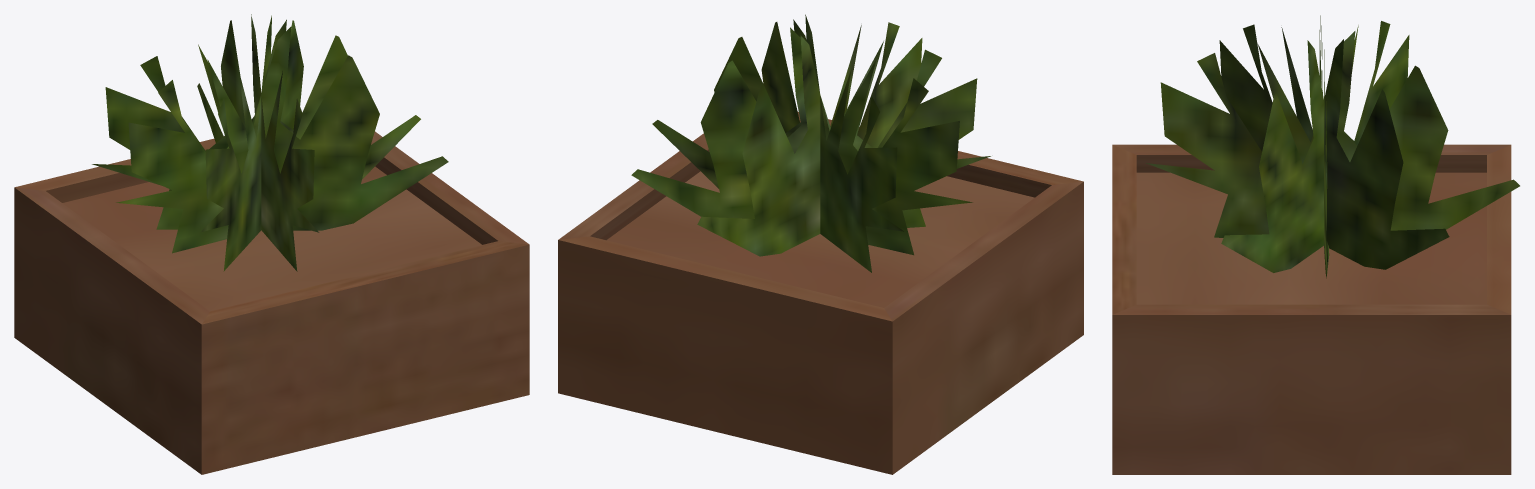
The model's file is plant3_2.dae.
3 views of the same model, side by side, from view 1: azimuth 30°, elevation 25°; view 2: azimuth 150°, elevation 25°; view 3: azimuth 270°, elevation 25° (orthographic). The views are drawn at different scales.
Parts seen in each view (by area): view 1: node; view 2: node; view 3: node.
Part boxes in pixels (<box>): node: <box>14,14,529,474</box>; node: <box>558,14,1083,474</box>; node: <box>1112,15,1519,474</box>.
Bounding box in the file's own units: 0.1988 × 0.1956 × 0.2014.
1 material, 1 textured.
